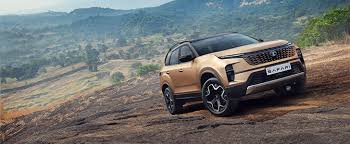car: (155, 28, 308, 115)
